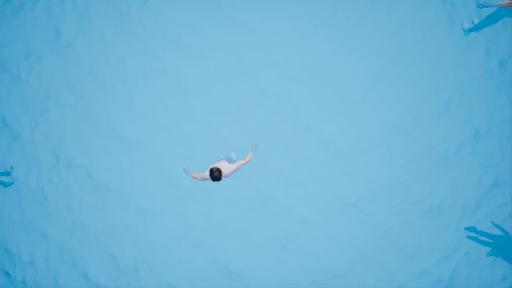person: (171, 135, 257, 183), (454, 1, 512, 47)
